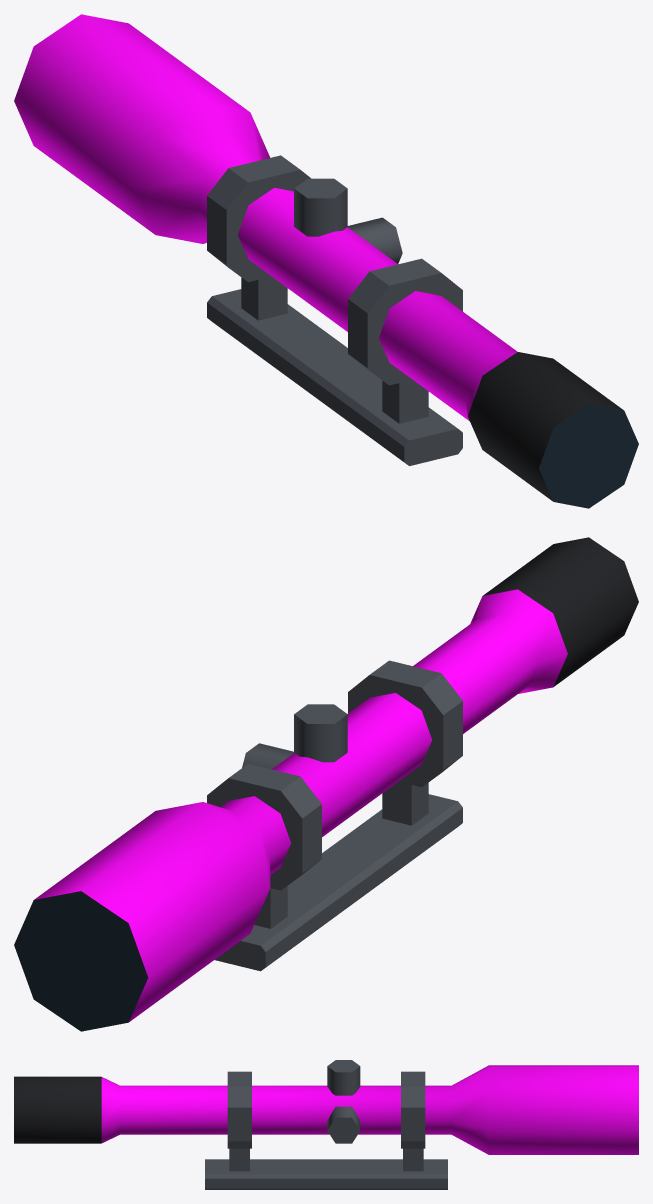
Rendered from att_scope_sniper.glb.
The picture shows the model from 3 angles, top to bottom: view 1: azimuth 30°, elevation 25°; view 2: azimuth 150°, elevation 25°; view 3: azimuth 270°, elevation 25°; orthographic projection. The views are drawn at different scales.
Parts seen in each view (by area): view 1: att_scope_sniper__body; view 2: att_scope_sniper__body; view 3: att_scope_sniper__body.
Part boxes in pixels (left/top/right/bottom): att_scope_sniper__body: left=14, top=14, right=638, bottom=508; att_scope_sniper__body: left=14, top=537, right=638, bottom=1031; att_scope_sniper__body: left=14, top=1060, right=638, bottom=1189.
Size of the model in its own units: 0.0555 by 0.074 by 0.36.
Materials: 1 (1 with a texture image).
